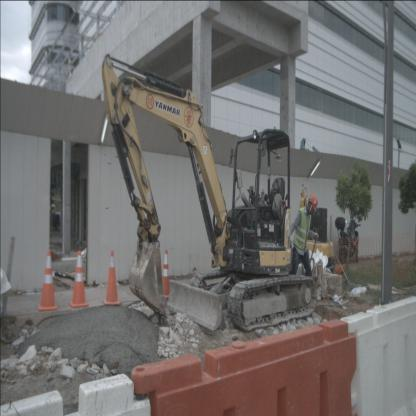barrier: (132, 316, 358, 416), (340, 290, 416, 415), (0, 373, 152, 416)
cone: (38, 250, 58, 311), (69, 250, 89, 308), (103, 249, 120, 307), (160, 249, 172, 302)
